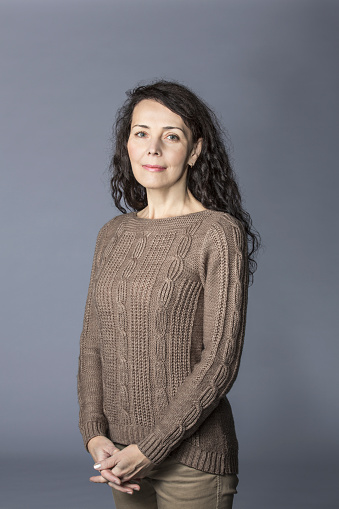em pe: (55, 79, 270, 509)
